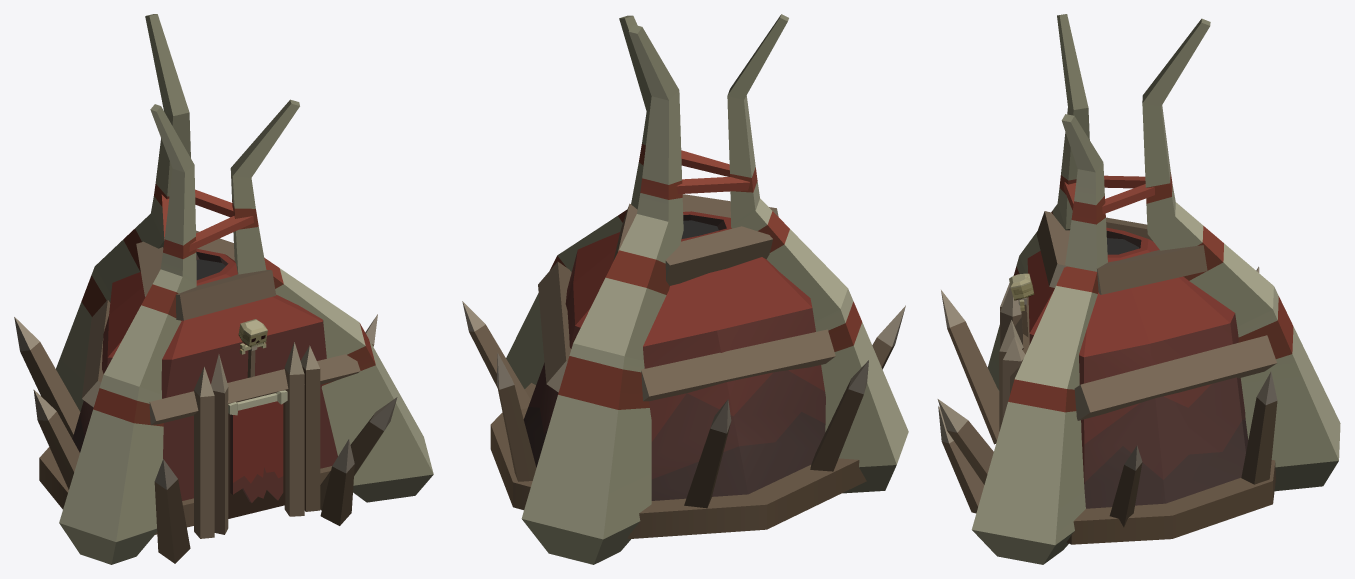
Rendered from Model_Horde_3x3A.fbx.
3 views of the same model, side by side, from view 1: azimuth 30°, elevation 25°; view 2: azimuth 150°, elevation 25°; view 3: azimuth 270°, elevation 25° (orthographic). The views are drawn at different scales.
Parts seen in each view (by area): view 1: Model_Frost_3x3A; view 2: Model_Frost_3x3A; view 3: Model_Frost_3x3A.
Part boxes in pixels (bbox=[...]): Model_Frost_3x3A: bbox=[14, 14, 433, 564]; Model_Frost_3x3A: bbox=[462, 14, 908, 564]; Model_Frost_3x3A: bbox=[937, 14, 1340, 564].
Size of the model in its own units: 583 by 696 by 548.
1 material, 1 textured.
